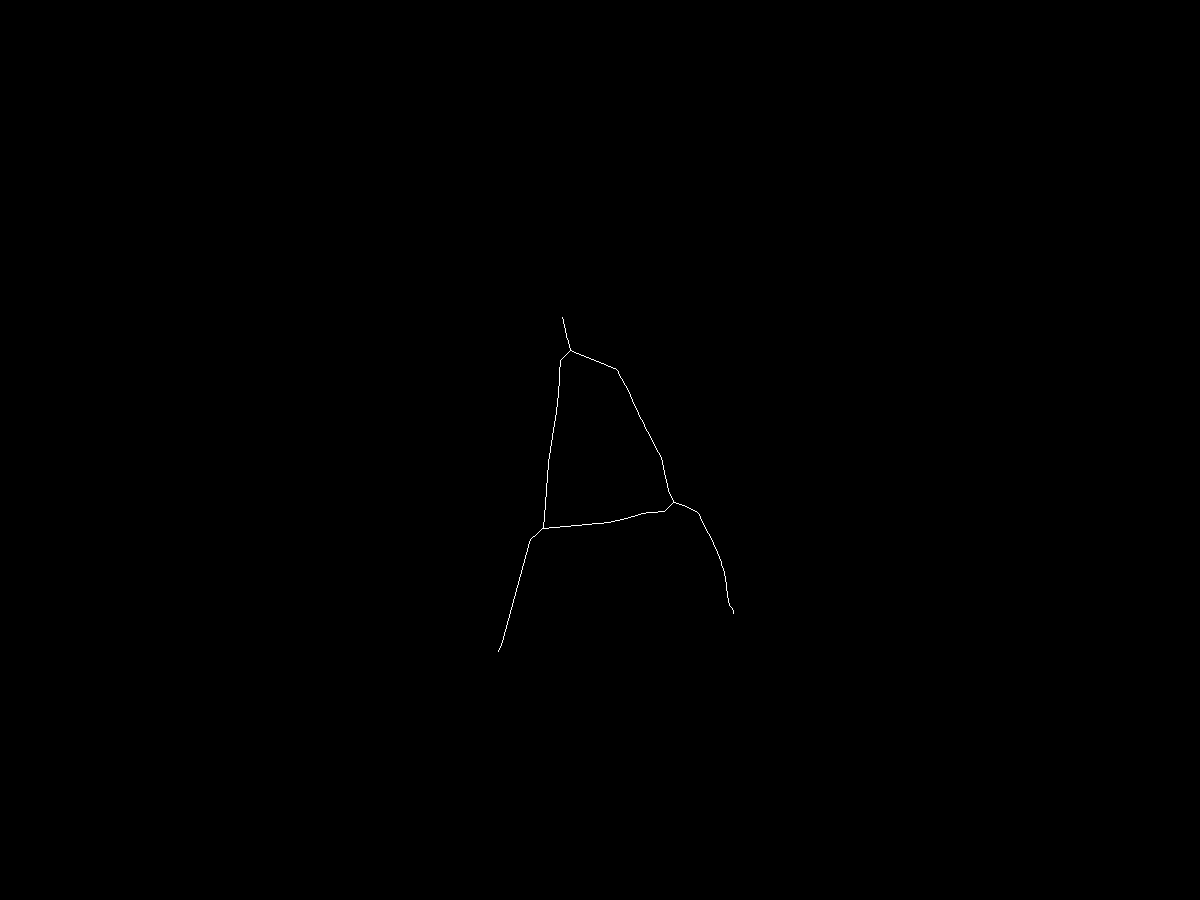dian1: (566, 342, 585, 361)
dian2: (537, 522, 554, 539)
dian3: (493, 643, 510, 660)
dian4: (669, 496, 687, 514)
dian5: (726, 601, 743, 618)
